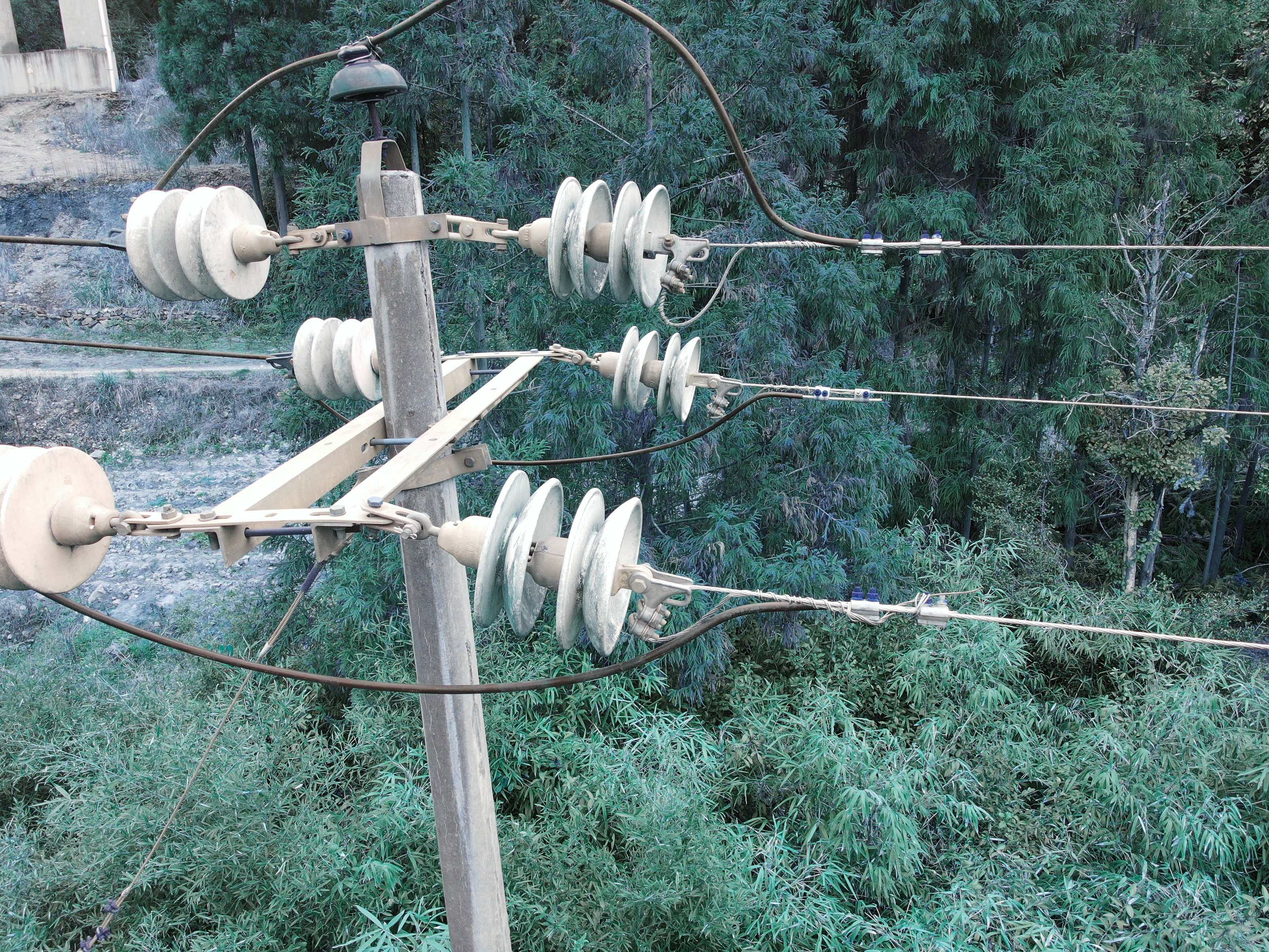severe_soiling_no_discharge_whole: (434, 466, 650, 662), (520, 174, 674, 313), (125, 183, 278, 305), (590, 325, 705, 421), (291, 314, 381, 405), (323, 42, 410, 108)
